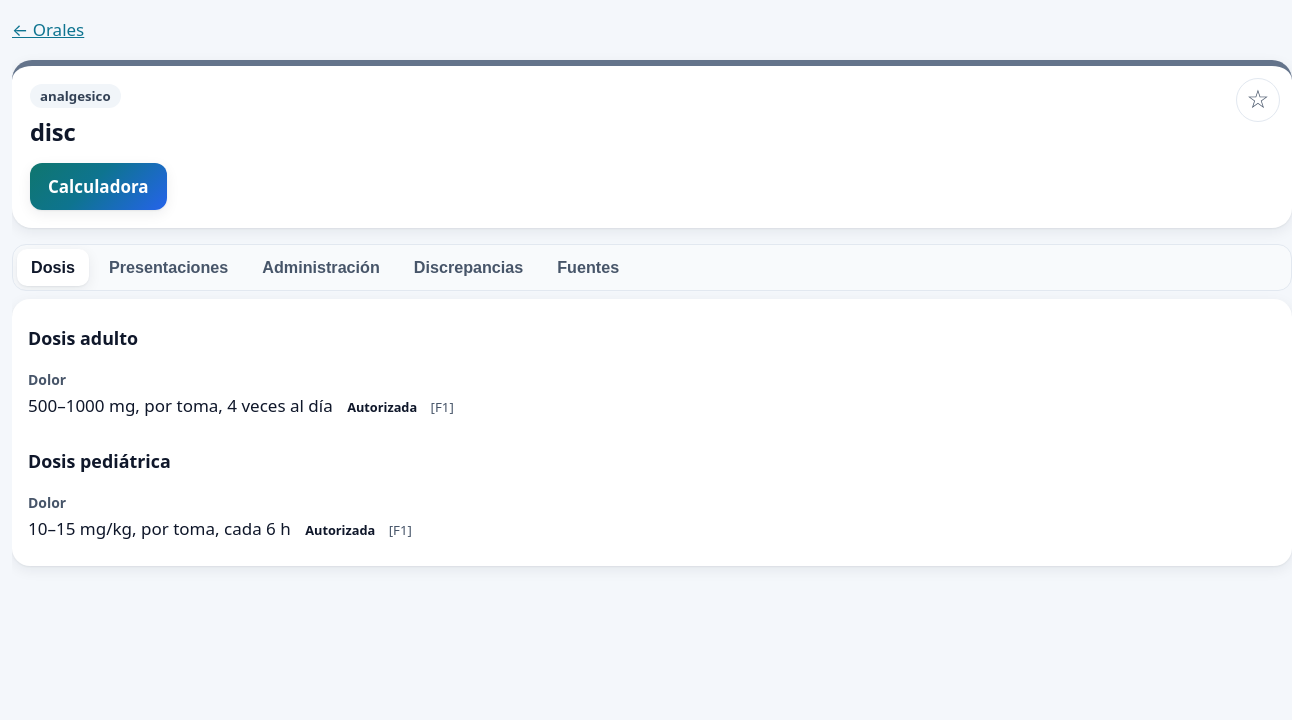
Test: FichaOral › Discrepancias muestra una fila por campo con cada valor y el mostrado
Click the tab "Discrepancias" at coordinates (469, 268), box [400,249,537,286]
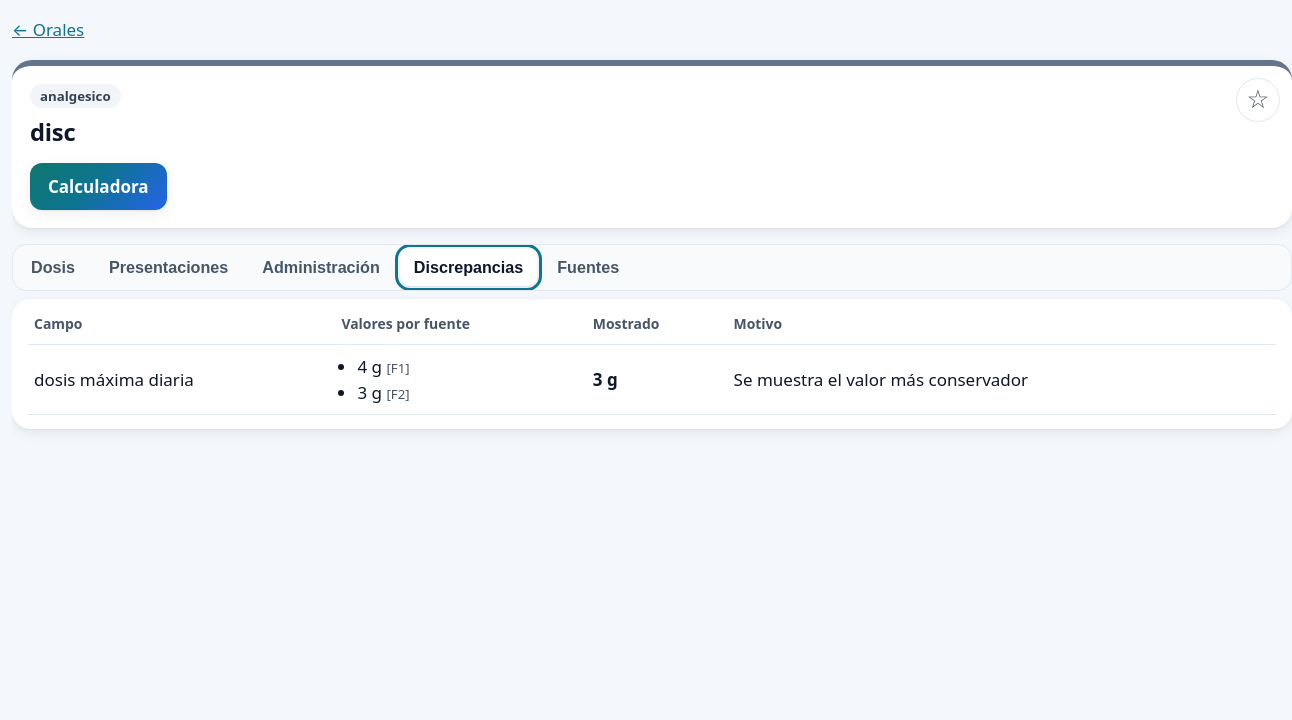
Now the row "dosis máxima diaria" shows "4 g", box [357,355,382,378]
Now the row "dosis máxima diaria" shows "3 g", box [357,381,382,404]
Now the row "dosis máxima diaria" shows "Se muestra el valor más conservador", box [734,368,1028,391]
